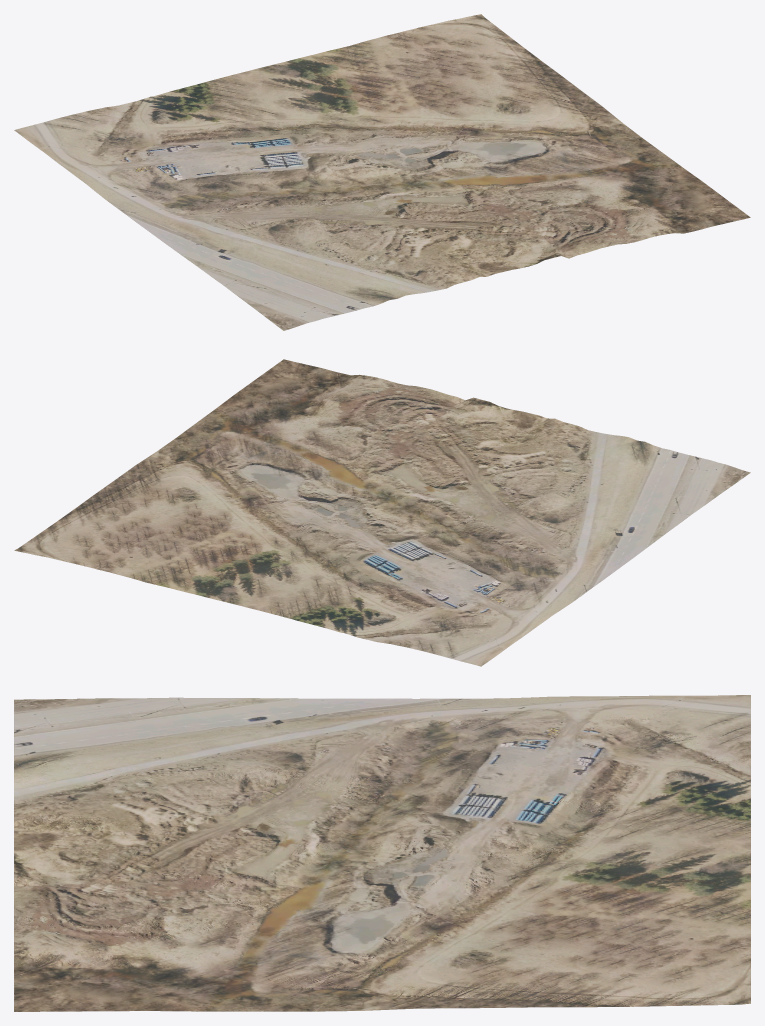
File: CM_Terrain_24490868_6819180.fbx
3 views of the same model, one above another, from view 1: azimuth 30°, elevation 25°; view 2: azimuth 150°, elevation 25°; view 3: azimuth 270°, elevation 25° (orthographic). The views are drawn at different scales.
Visible parts, largest first — view 1: CM_Terrain_24490868_6819180_LOD0; view 2: CM_Terrain_24490868_6819180_LOD0; view 3: CM_Terrain_24490868_6819180_LOD0.
Part boxes in pixels (x1,y1,x2,y2): CM_Terrain_24490868_6819180_LOD0: (14, 14, 750, 330); CM_Terrain_24490868_6819180_LOD0: (14, 359, 750, 666); CM_Terrain_24490868_6819180_LOD0: (14, 695, 750, 1011).
Size of what is drawn, in the model's own units: 205 by 4.67 by 205.
